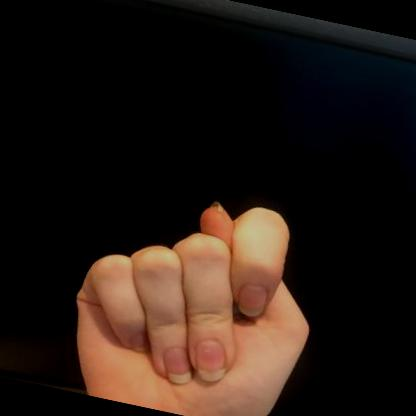T: (75, 200, 309, 416)
